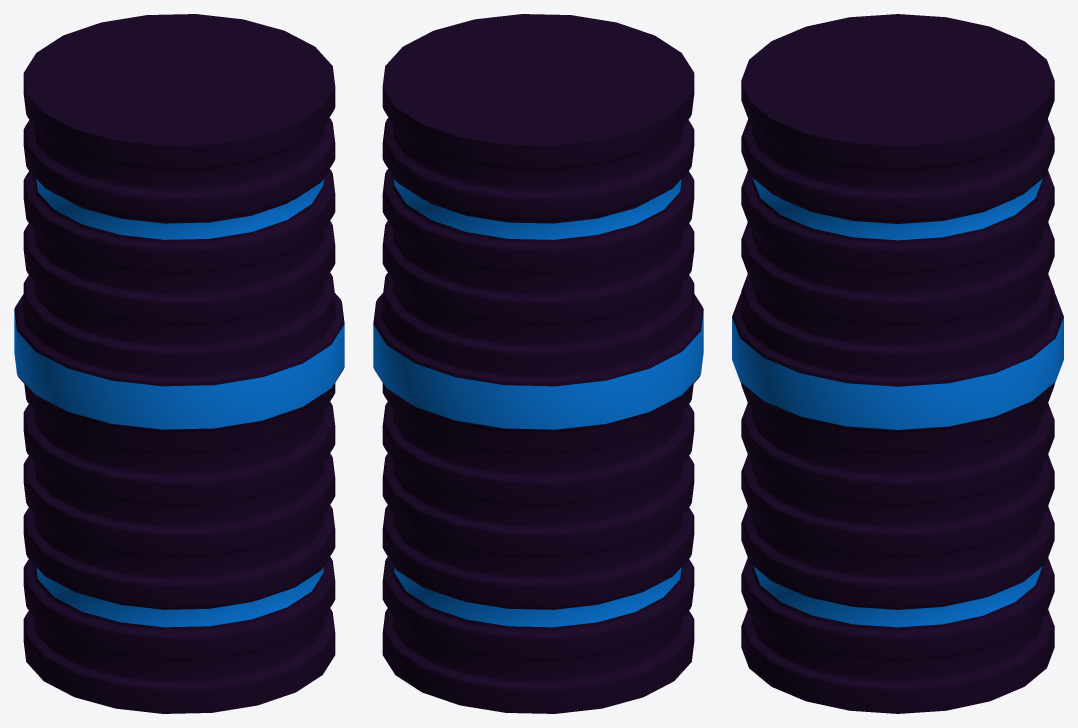
Rendered from pillarBlue.fbx.
The picture shows the model from 3 angles, left to right: view 1: azimuth 30°, elevation 25°; view 2: azimuth 150°, elevation 25°; view 3: azimuth 270°, elevation 25°; orthographic projection.
Parts seen in each view (by area): view 1: pCylinder1; view 2: pCylinder1; view 3: pCylinder1.
Part boxes in pixels (x1,y1,x2,y2): pCylinder1: (14, 14, 344, 713); pCylinder1: (373, 14, 703, 713); pCylinder1: (732, 14, 1063, 713).
Size of the model in its own units: 2.12 by 4 by 2.12.
